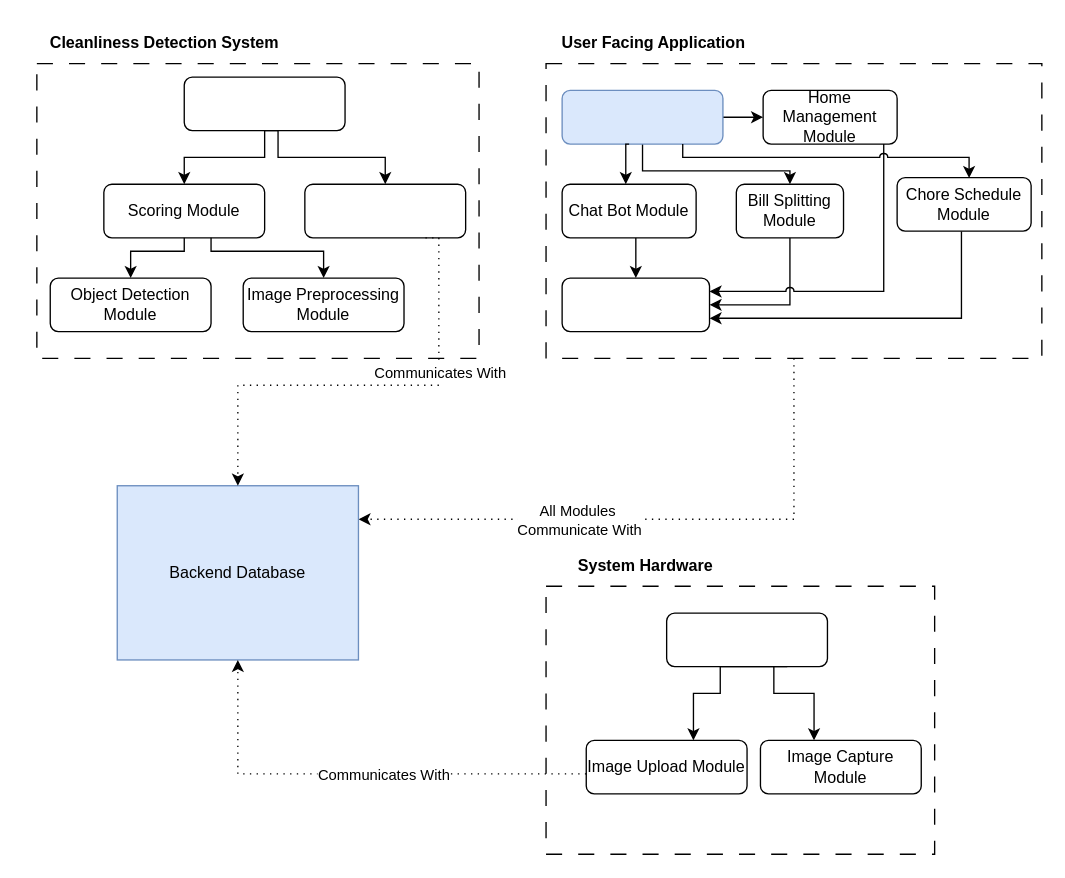
Image size: 1065x878. Some labels were removed from this diagram. The shapes that lost their labels are listed below. From the top down, each one's box as (x1, y1, x2, y2) in pixels, then its label:
(183, 76, 345, 131): Request Listener Module
(561, 89, 723, 144): Web Framework
(304, 183, 466, 238): Data Uploading Module
(561, 277, 710, 332): User Authentication Module
(665, 612, 827, 667): Sensor Reading Module
